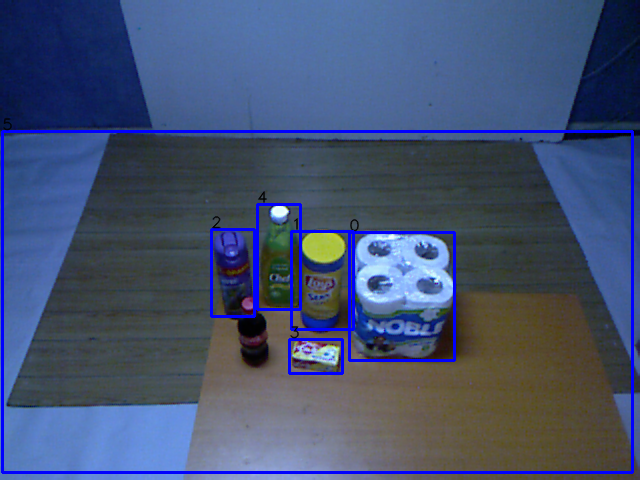aceite: (255, 205, 306, 310)
aerosol: (211, 228, 261, 319)
coca: (233, 293, 273, 370)
confort: (348, 227, 456, 363)
mantequilla: (288, 335, 344, 376)
papas: (295, 225, 346, 334)
